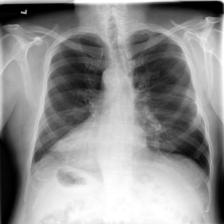normal: (25, 26, 216, 191)
